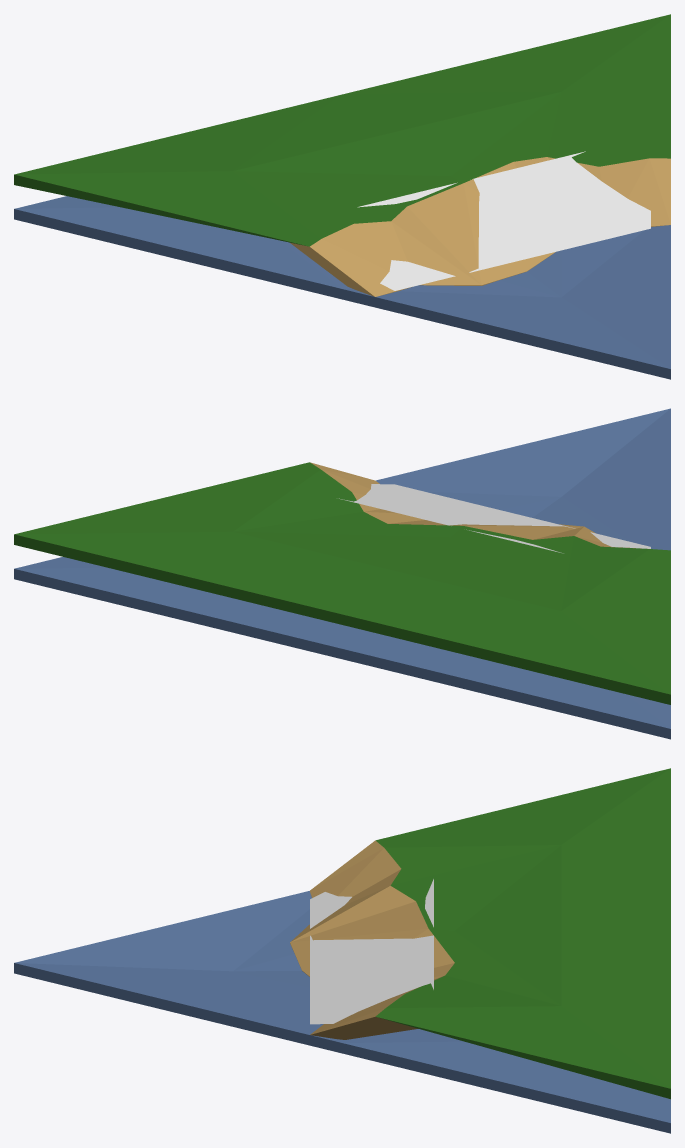
3 views of the same model, one above another, from view 1: azimuth 30°, elevation 25°; view 2: azimuth 150°, elevation 25°; view 3: azimuth 270°, elevation 25° (orthographic).
Parts seen in each view (by area): view 1: ground.007, water5, grass5; view 2: ground.007, water5, grass5; view 3: ground.007, water5, grass5.
Part boxes in pixels (bbox=[...]): ground.007: bbox=[14, 14, 670, 296]; water5: bbox=[14, 196, 670, 379]; grass5: bbox=[357, 151, 650, 290]; ground.007: bbox=[14, 462, 670, 704]; water5: bbox=[14, 408, 670, 739]; grass5: bbox=[339, 484, 650, 553]; ground.007: bbox=[290, 768, 670, 1099]; water5: bbox=[14, 891, 670, 1133]; grass5: bbox=[310, 879, 433, 1024].
Bounding box in the file's own units: 1 × 0.0703 × 0.866.
